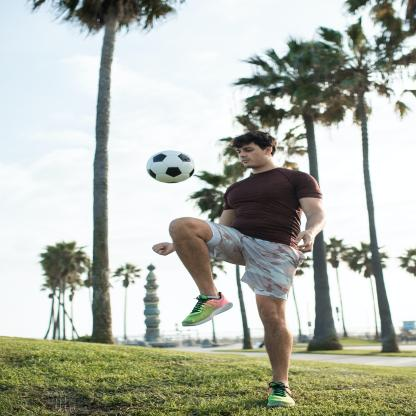ball: (145, 150, 197, 184)
